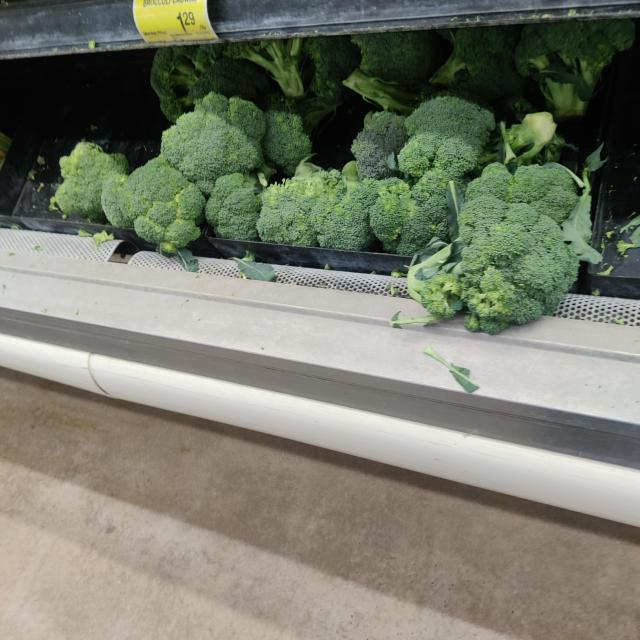Broccoli: (420, 198, 578, 332), (356, 95, 496, 176), (266, 160, 381, 254), (161, 96, 267, 194), (109, 154, 206, 253), (55, 140, 128, 218)
